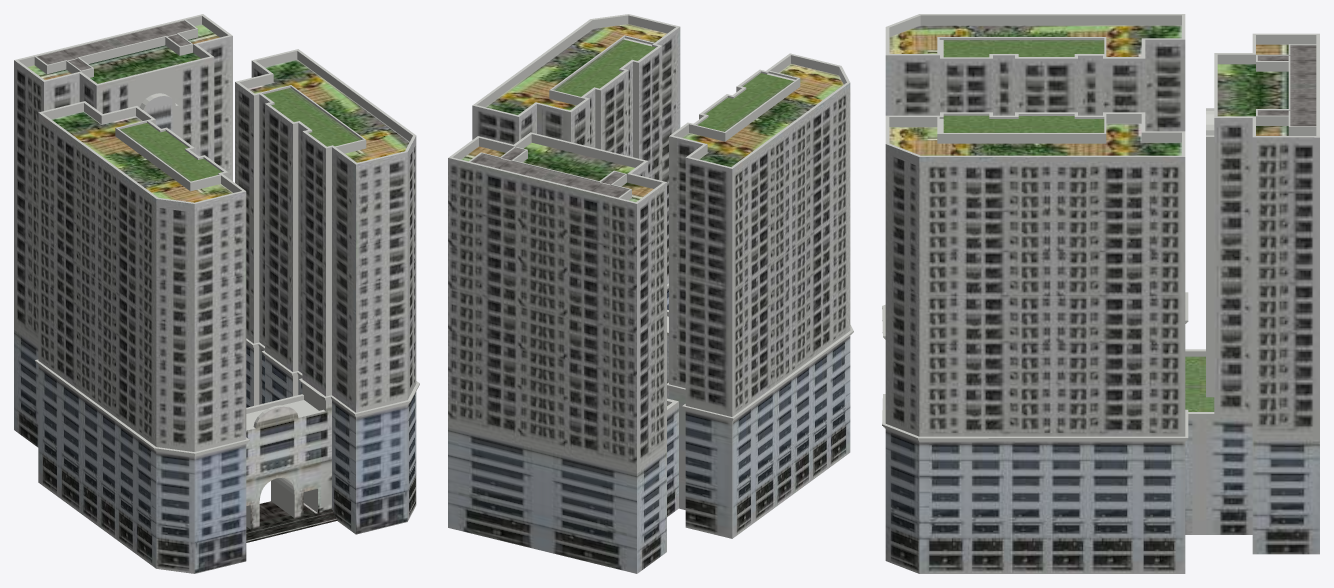
3 renders of one model, left to right at view 1: azimuth 30°, elevation 25°; view 2: azimuth 150°, elevation 25°; view 3: azimuth 270°, elevation 25°, orthographic. The views are drawn at different scales.
Visible parts, largest first — view 1: HN512_Central_Point; view 2: HN512_Central_Point; view 3: HN512_Central_Point.
Part boxes in pixels (bbox=[...]): HN512_Central_Point: bbox=[14, 14, 419, 573]; HN512_Central_Point: bbox=[448, 14, 853, 573]; HN512_Central_Point: bbox=[882, 14, 1319, 573].
Size of the model in its own units: 69.12 by 91.93 by 87.47.
1 material, 1 textured.
